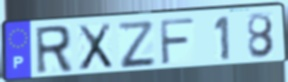1: (213, 15, 231, 62)
8: (246, 12, 276, 60)
F: (158, 17, 196, 67)
R: (33, 23, 74, 77)
X: (76, 22, 114, 73)
Z: (115, 20, 158, 70)
